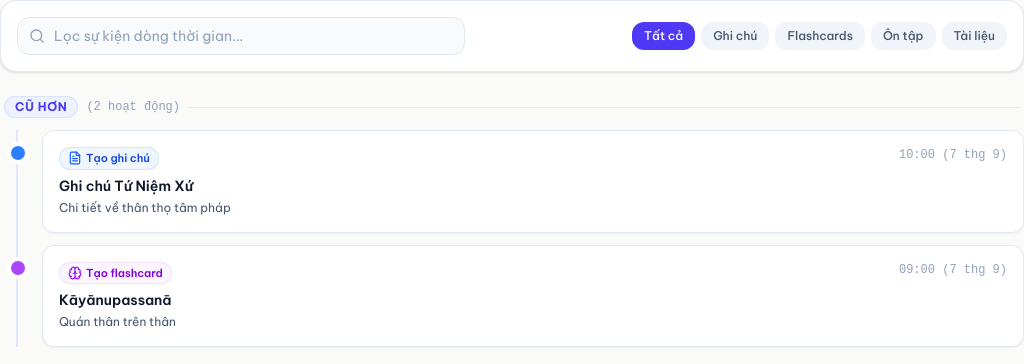
Test: ResearchTimeline Component › filters events by type chips
Note: Filter to Ghi chú only
What coordinates should you click on to do the following:
click the button with test id "filter-notes"
I would click on:
 (735, 36)
Its box is [701,22,769,50].
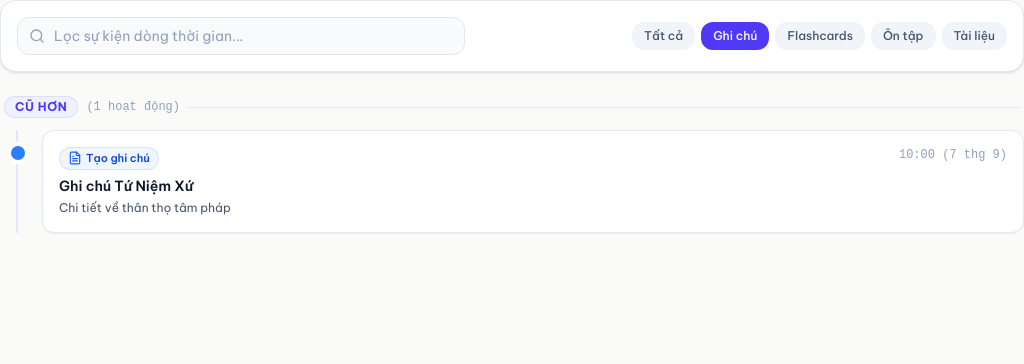
Expected: the heading "Ghi chú Tứ Niệm Xứ" is shown, [59,176,193,194]
Now the heading "Kāyānupassanā" is gone
Note: Filter to Flashcards only
What coordinates should you click on to do the following:
click the button with test id "filter-flashcards"
I would click on:
 (820, 36)
Its box is [775,22,865,50].
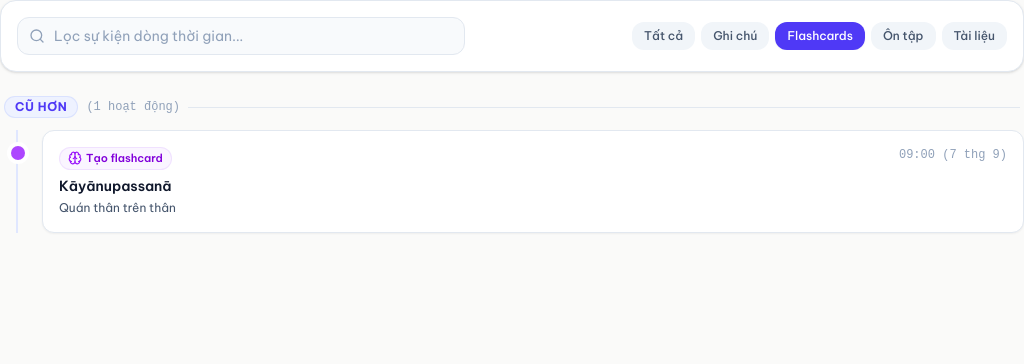
Now the heading "Kāyānupassanā" is shown, box [59,176,172,194]
Now the heading "Ghi chú Tứ Niệm Xứ" is gone
